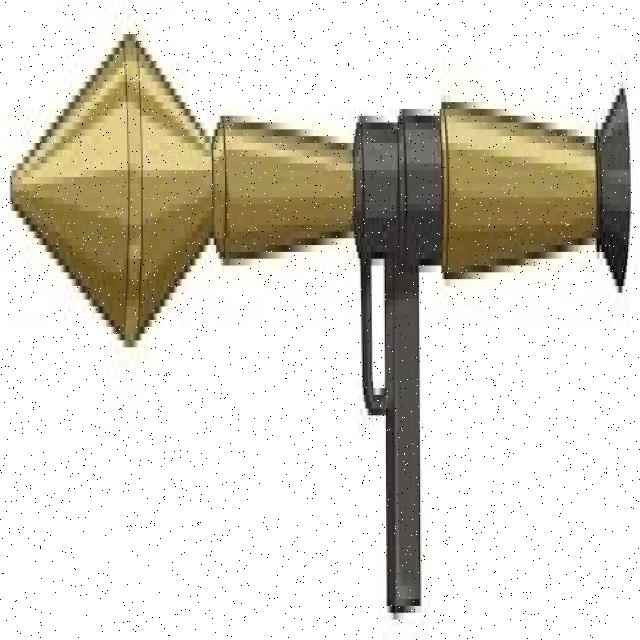bazooka: (5, 14, 638, 639)
